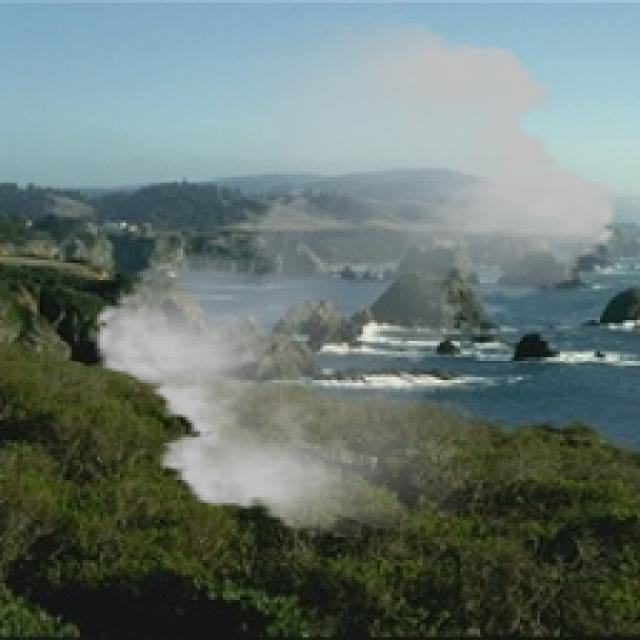smoke: (77, 14, 634, 537)
